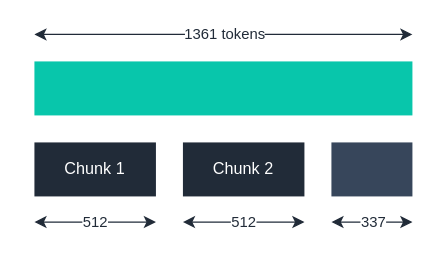
This 448x258 diagram has some shape labels left out. The shapes that lost their labels are listed below. From the top down, each one's centre as x and y in pixels, then its label:
At pixel 223 88: "Original Tensor".
At pixel 371 169: "Chunk 3".
